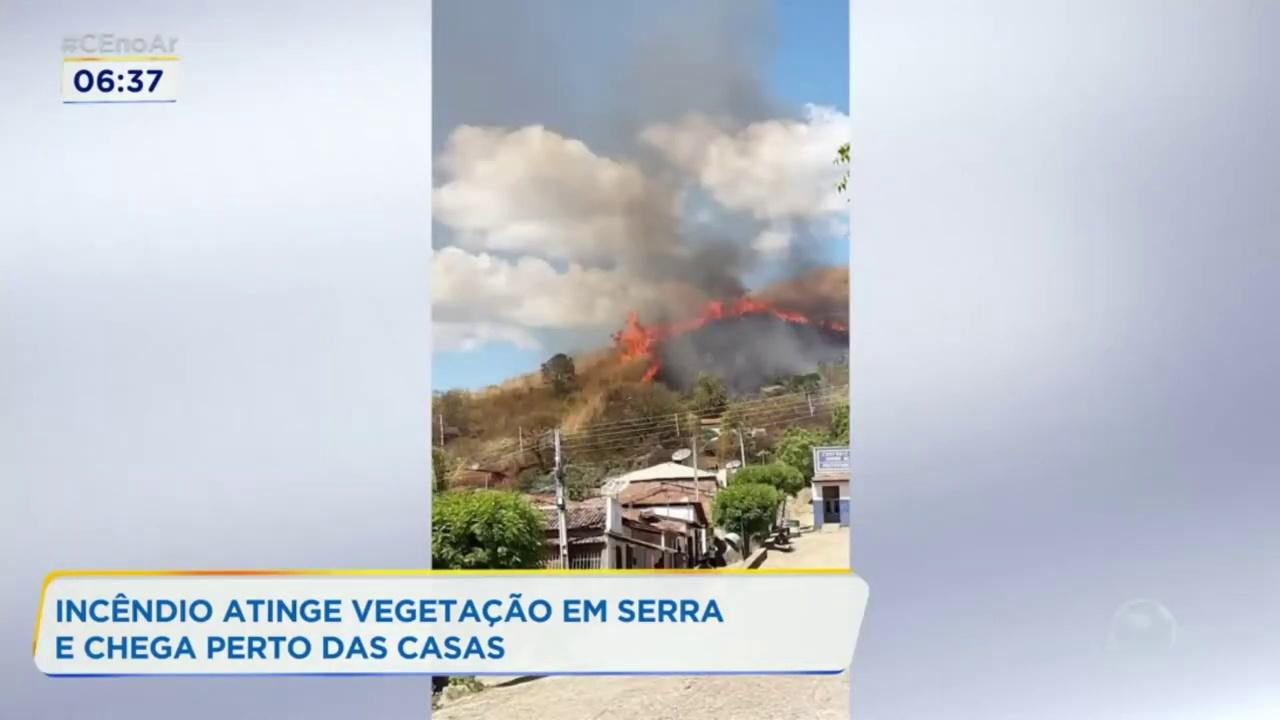fire: (604, 318, 672, 364)
